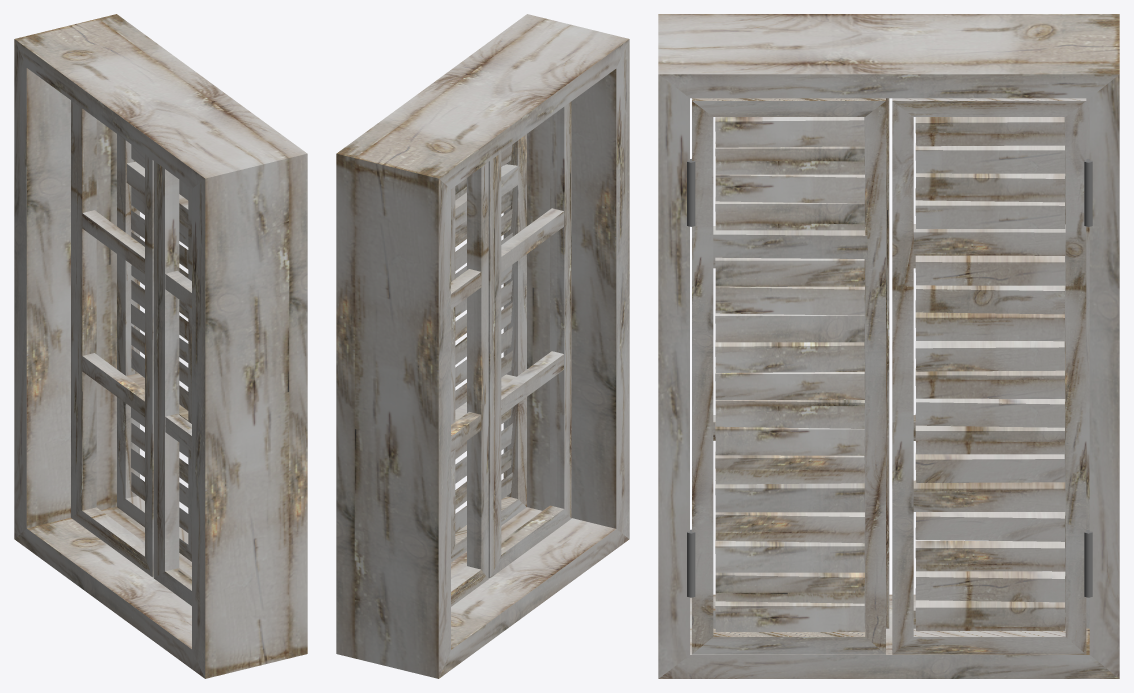
Rendered from OldHouseWindowWoodWhite.obj.
The picture shows the model from 3 angles, left to right: view 1: azimuth 30°, elevation 25°; view 2: azimuth 150°, elevation 25°; view 3: azimuth 270°, elevation 25°; orthographic projection. The views are drawn at different scales.
Visible parts, largest first — view 1: Rectangle02, Rectangle05, Rectangle04, Rectangle01; view 2: Rectangle02, Rectangle01, Rectangle03, Rectangle05; view 3: Rectangle04, Rectangle03, Rectangle02, Rectangle01, Rectangle05.
Part boxes in pixels (x1,y1,x2,y2): Rectangle02: (14, 14, 307, 678); Rectangle05: (71, 100, 153, 577); Rectangle04: (117, 134, 191, 561); Rectangle01: (153, 161, 191, 605); Rectangle02: (336, 14, 629, 678); Rectangle01: (488, 101, 571, 578); Rectangle03: (451, 134, 526, 562); Rectangle05: (451, 162, 488, 606); Rectangle04: (892, 98, 1086, 654); Rectangle03: (692, 98, 885, 654); Rectangle02: (658, 14, 1119, 678); Rectangle01: (713, 98, 889, 628); Rectangle05: (913, 98, 1089, 628).
Bounding box in the file's own units: 0.3548 × 1.6 × 1.11.
Materials: 3 (1 with a texture image).
